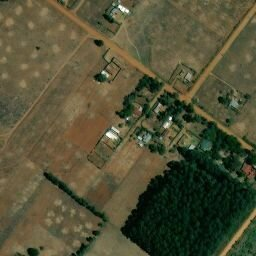tree: (97, 74, 106, 82), (97, 40, 104, 47), (93, 230, 100, 236), (225, 118, 230, 124), (118, 123, 123, 128)
